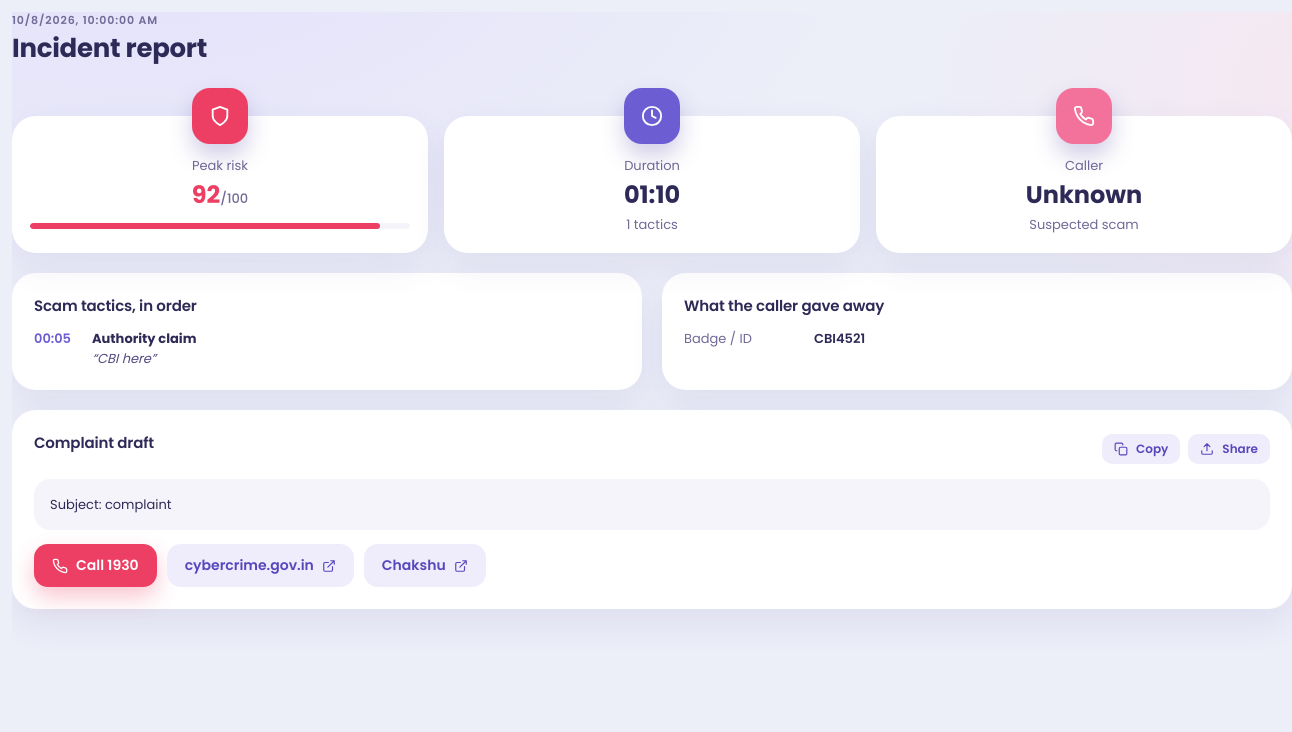
Scenario: ReportView › copies with execCommand when navigator.clipboard is missing
What coordinates should you click on to do the following:
click the button "Copy"
I would click on:
 (1141, 449)
Its box is left=1102, top=434, right=1180, bottom=464.
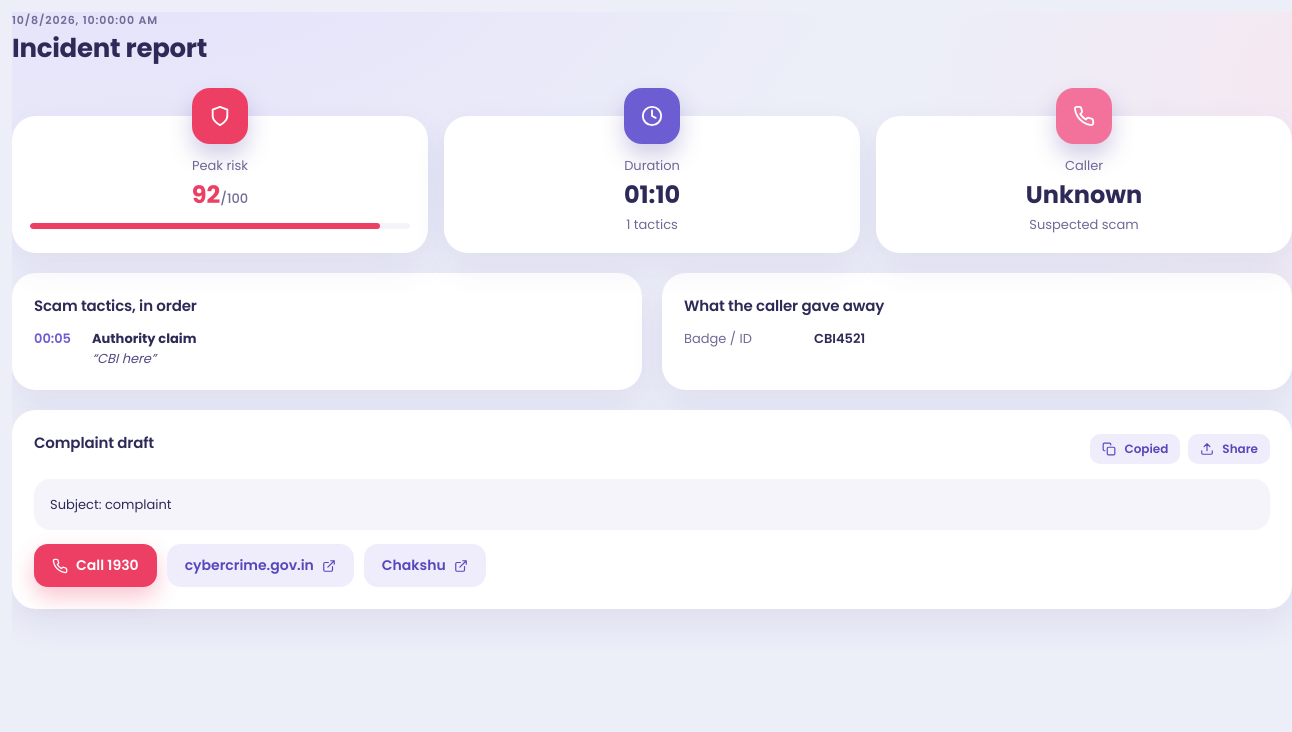
Expected: the button "Copied" is shown, left=1090, top=434, right=1180, bottom=464
